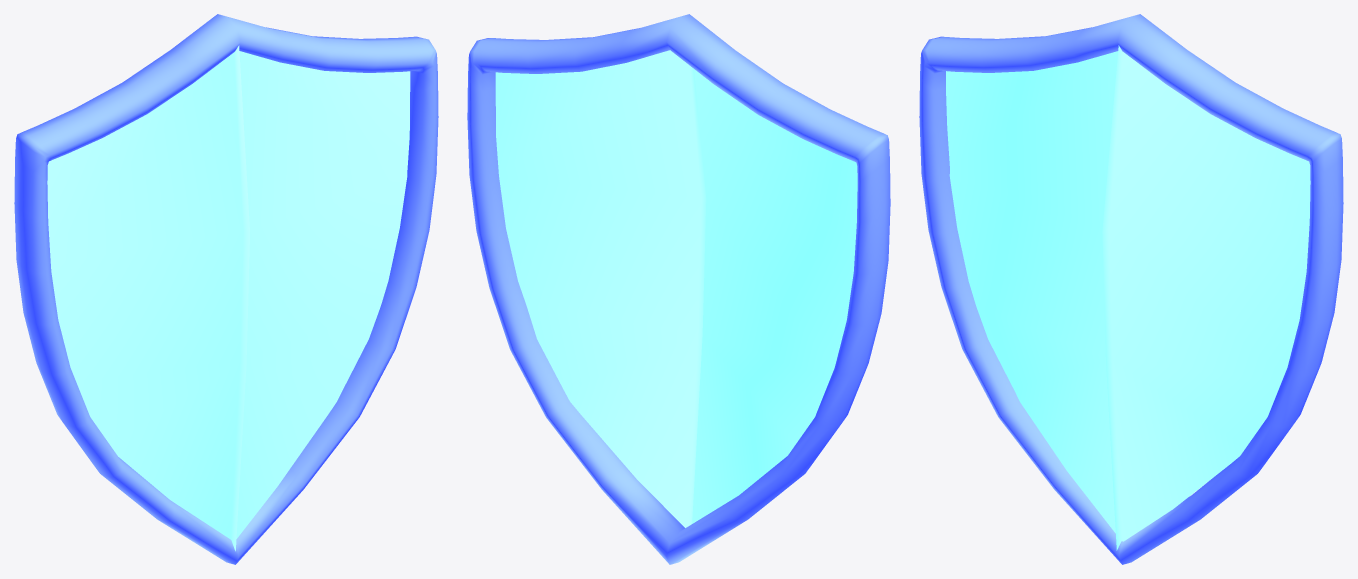
Rendered from MadeByJawns_ItchIO_GameItems_v1_0_1_Shield.fbx.
3 views of the same model, side by side, from view 1: azimuth 30°, elevation 25°; view 2: azimuth 150°, elevation 25°; view 3: azimuth 330°, elevation 25° (orthographic).
Visible parts, largest first — view 1: Shield; view 2: Shield; view 3: Shield.
Part boxes in pixels (left/top/right/bottom): Shield: left=14, top=14, right=438, bottom=564; Shield: left=467, top=14, right=890, bottom=564; Shield: left=919, top=14, right=1343, bottom=564.
Size of the model in its own units: 521 by 659 by 85.15.
